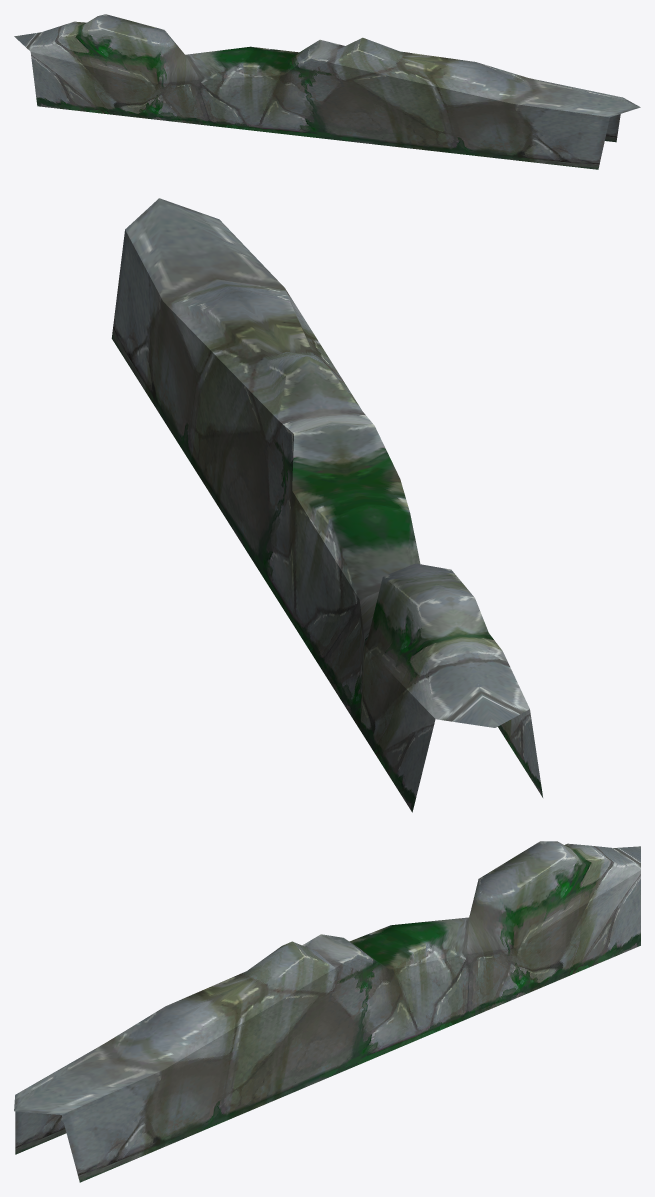
Rendered from stemple_cap_diagonal_01.fbx.
The picture shows the model from 3 angles, top to bottom: view 1: azimuth 30°, elevation 25°; view 2: azimuth 150°, elevation 25°; view 3: azimuth 270°, elevation 25°; orthographic projection. The views are drawn at different scales.
Visible parts, largest first — view 1: sunken_tileset/sunken_quarter01_mat; view 2: sunken_tileset/sunken_quarter01_mat; view 3: sunken_tileset/sunken_quarter01_mat.
Part boxes in pixels (x1,y1,x2,y2): sunken_tileset/sunken_quarter01_mat: (14,14,640,169); sunken_tileset/sunken_quarter01_mat: (111,198,542,812); sunken_tileset/sunken_quarter01_mat: (14,841,640,1182).
Bounding box in the file's own units: 4 × 0.8728 × 4.
